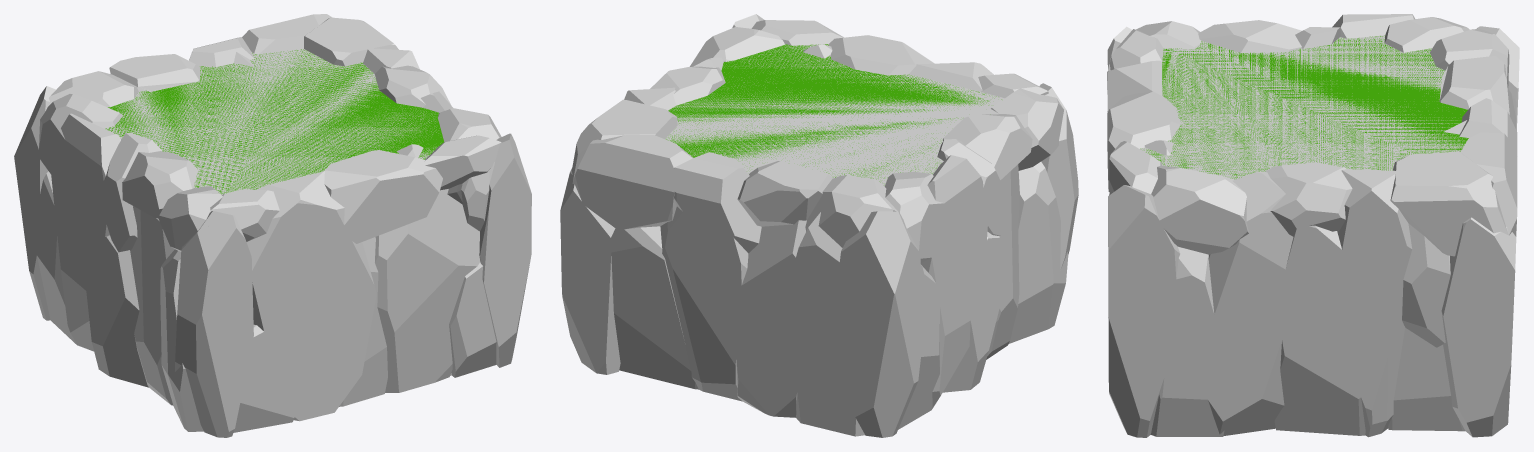
The model's file is MySupremacyIncModels.fbx.
3 renders of one model, left to right at view 1: azimuth 30°, elevation 25°; view 2: azimuth 150°, elevation 25°; view 3: azimuth 270°, elevation 25°, orthographic. The views are drawn at different scales.
Visible parts, largest first — view 1: Sphere.001, Sphere, High Plane.001, High Plane Cliff, Sphere.002, Sphere.007; view 2: Sphere.007, Sphere, High Plane Cliff, High Plane.001, Sphere.001, Sphere.002; view 3: Sphere.002, High Plane Cliff, High Plane.001, Sphere.007, Sphere.001, Sphere.
Part boxes in pixels (bbox=[...]): Sphere.001: bbox=[175, 135, 501, 437]; Sphere: bbox=[14, 86, 222, 431]; High Plane.001: bbox=[105, 49, 462, 204]; High Plane Cliff: bbox=[105, 48, 451, 375]; Sphere.002: bbox=[304, 17, 531, 367]; Sphere.007: bbox=[49, 14, 332, 107]; Sphere.007: bbox=[560, 135, 897, 436]; Sphere: bbox=[833, 88, 1068, 437]; High Plane Cliff: bbox=[665, 44, 1004, 186]; High Plane.001: bbox=[666, 44, 1001, 185]; Sphere.001: bbox=[751, 20, 1078, 270]; Sphere.002: bbox=[571, 14, 784, 181]; Sphere.002: bbox=[1108, 151, 1508, 437]; High Plane Cliff: bbox=[1140, 35, 1466, 179]; High Plane.001: bbox=[1140, 35, 1468, 179]; Sphere.007: bbox=[1430, 28, 1517, 437]; Sphere.001: bbox=[1107, 26, 1180, 195]; Sphere: bbox=[1136, 14, 1519, 130].
Bounding box in the file's own units: 1220 × 789 × 1162.
